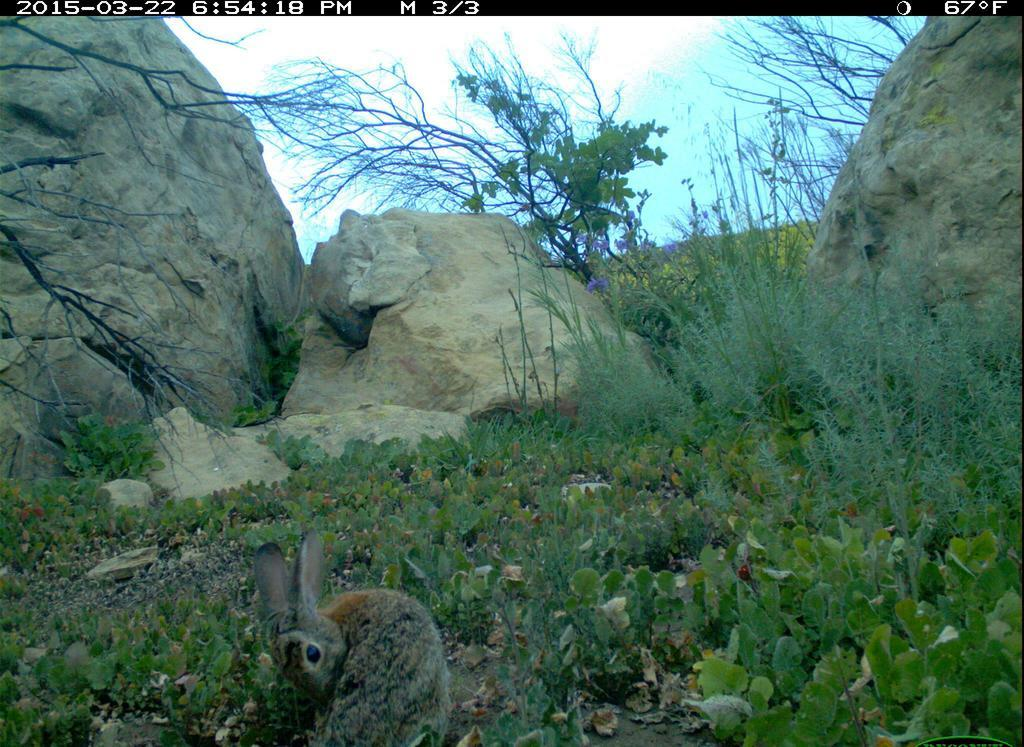rabbit: (245, 533, 452, 740)
